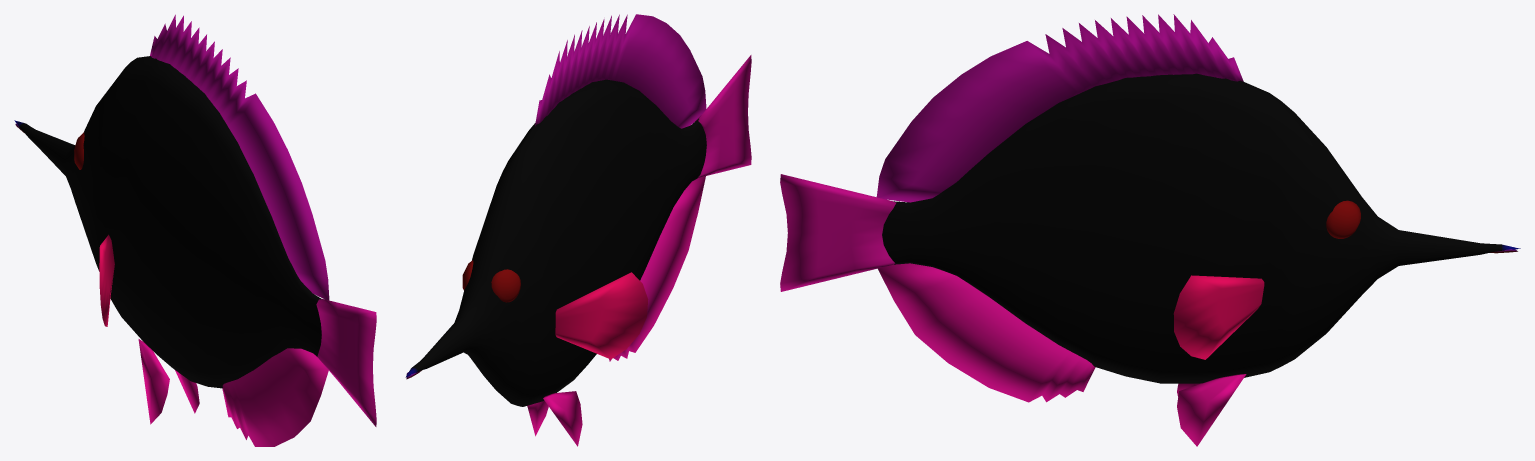
The model's file is butterflyfish_longnose_game.glb.
3 views of the same model, side by side, from view 1: azimuth 30°, elevation 25°; view 2: azimuth 150°, elevation 25°; view 3: azimuth 270°, elevation 25° (orthographic). The views are drawn at different scales.
Visible parts, largest first — view 1: butterflyfish_longnose_game; view 2: butterflyfish_longnose_game; view 3: butterflyfish_longnose_game.
Boxes of the visible parts, left/top/right/bottom form: butterflyfish_longnose_game: left=14, top=14, right=376, bottom=446; butterflyfish_longnose_game: left=405, top=14, right=751, bottom=446; butterflyfish_longnose_game: left=780, top=14, right=1520, bottom=446.
Size of the model in its own units: 0.0484 by 0.1131 by 0.1799.
